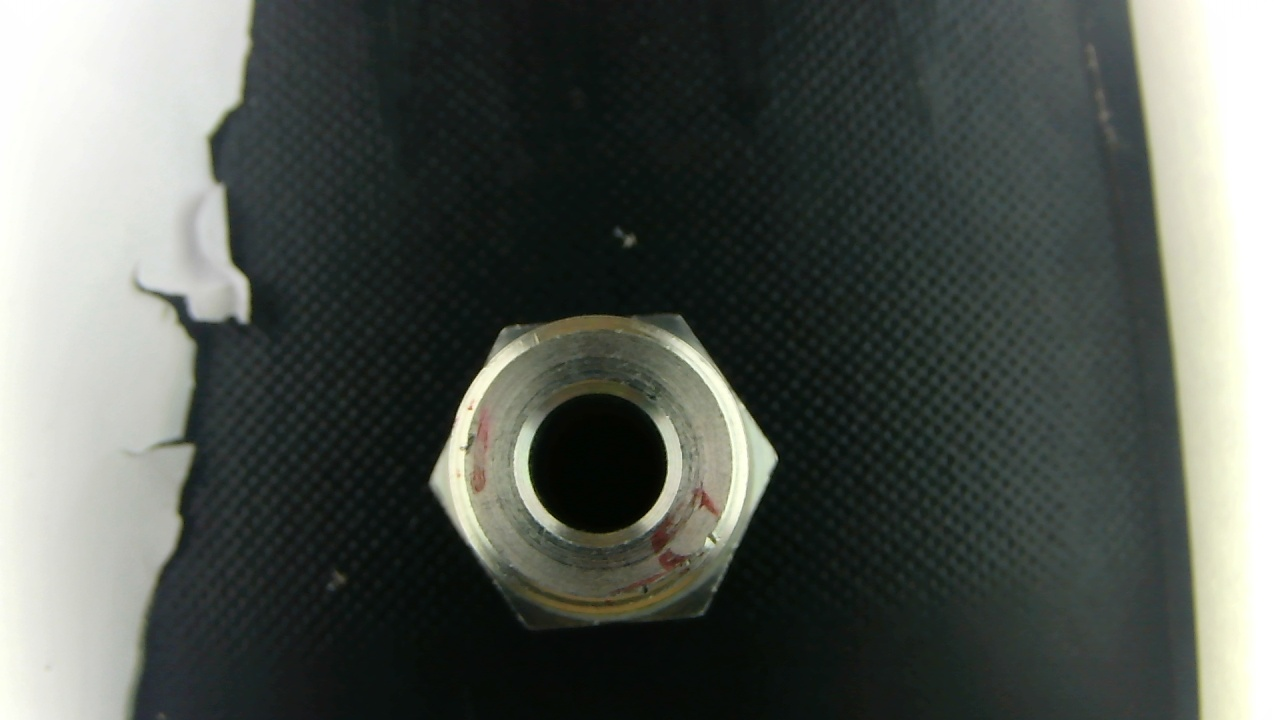SurfaceDent_Adaptor: (698, 532, 726, 557)
